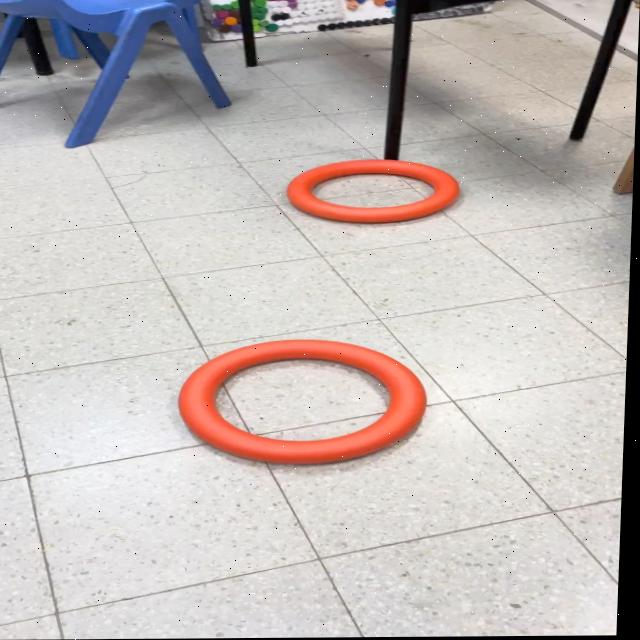note: (176, 338, 435, 468), (285, 158, 466, 227)
